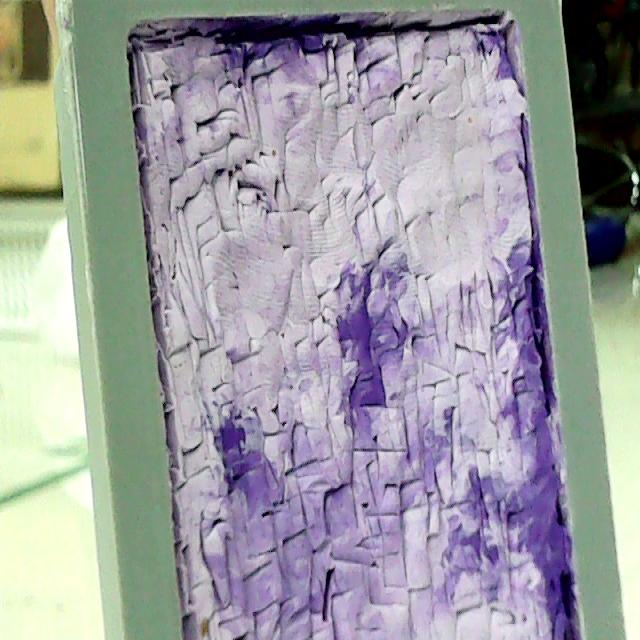block: (48, 5, 630, 633)
